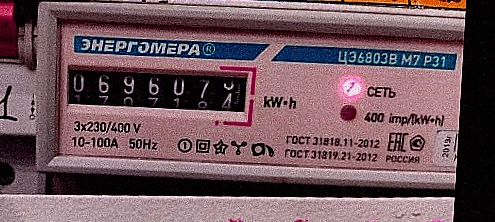0: (170, 74, 187, 97), (70, 71, 86, 93)
4: (220, 90, 234, 112)
6: (95, 72, 111, 94), (145, 75, 161, 96)
7: (195, 78, 211, 100)
9: (120, 73, 135, 95)
screen: (52, 53, 261, 124)
